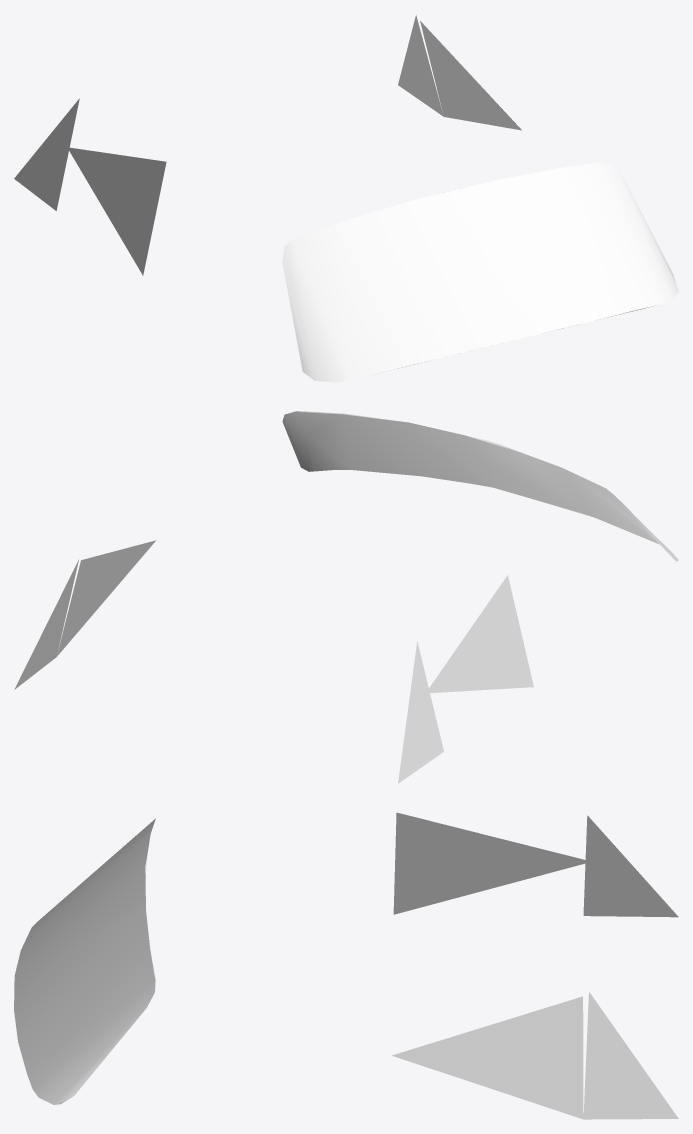
3 views of the same model, one above another, from view 1: azimuth 30°, elevation 25°; view 2: azimuth 150°, elevation 25°; view 3: azimuth 270°, elevation 25° (orthographic). The views are drawn at different scales.
Bounding box in the file's own units: 1.41 × 0.426 × 1.93.
1 material, 1 textured.
